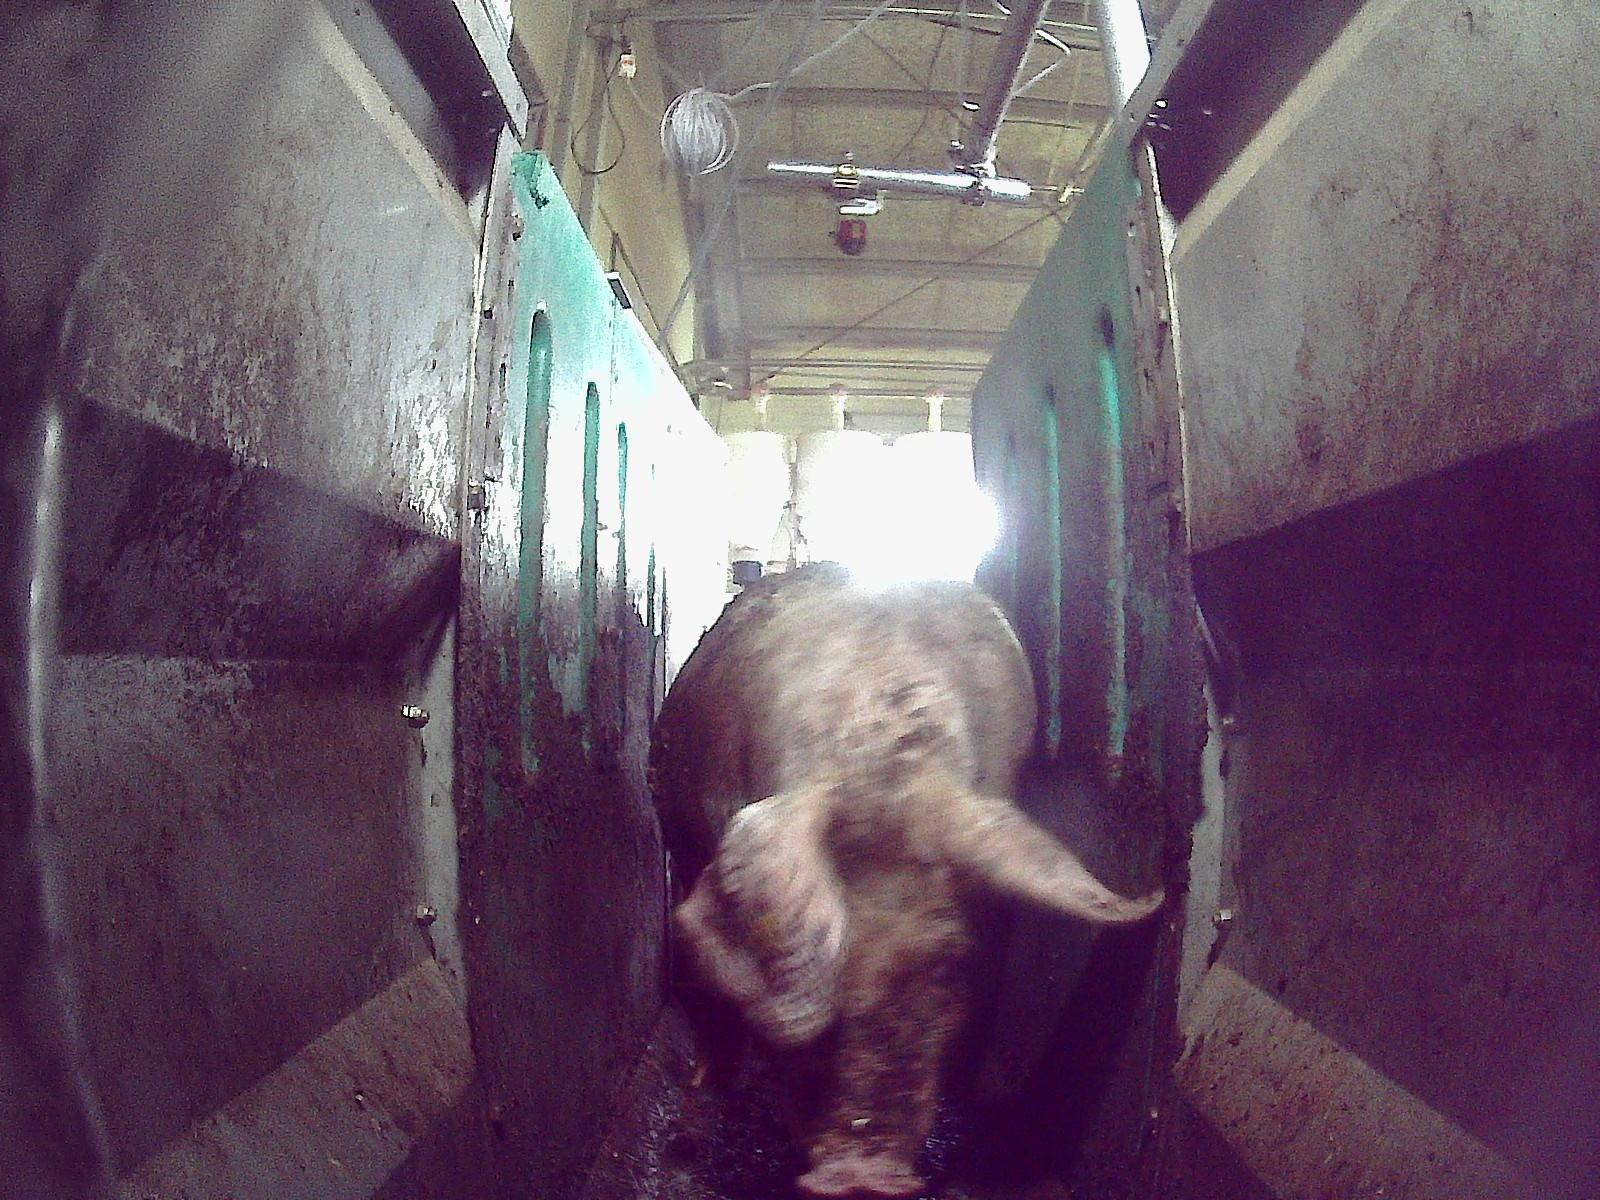Face: (710, 785, 994, 1199)
